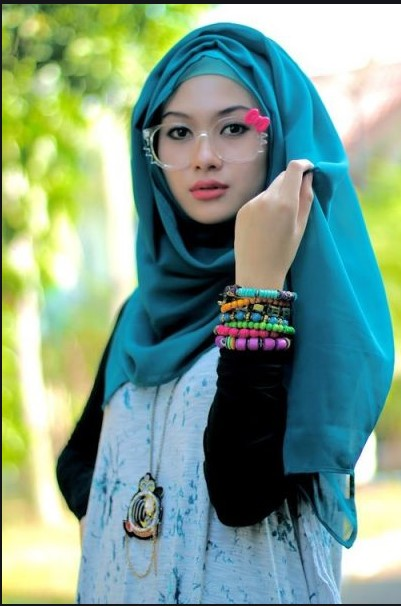face_no_mask: (150, 49, 274, 225)
